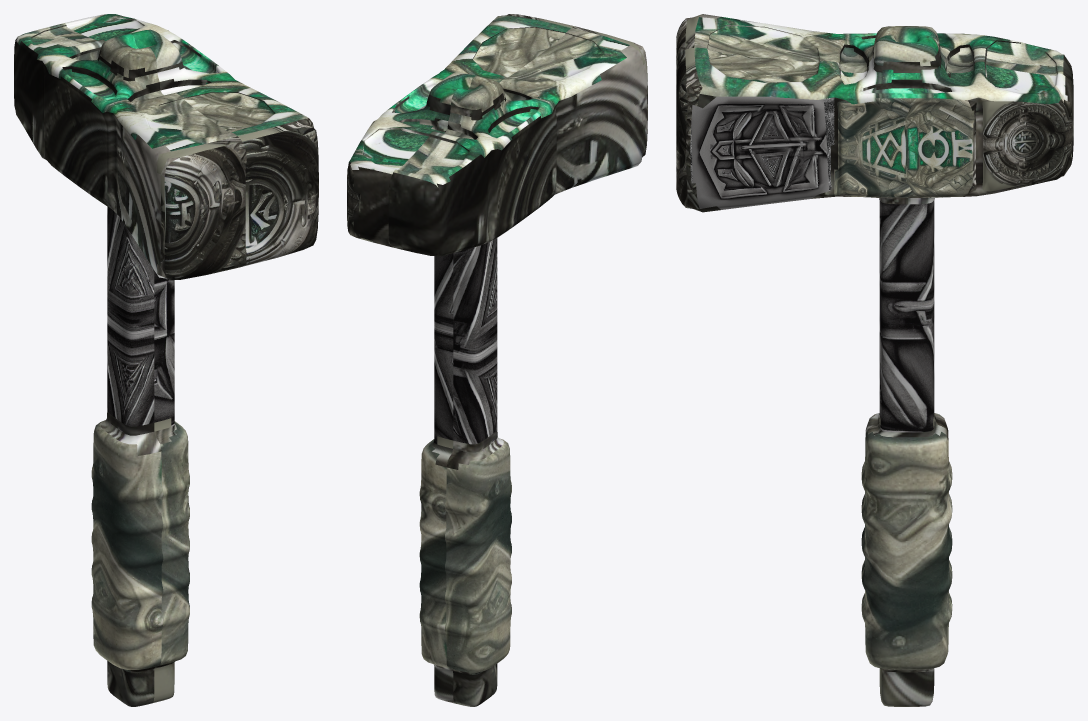
Rendered from Hammer.glb.
3 views of the same model, side by side, from view 1: azimuth 30°, elevation 25°; view 2: azimuth 150°, elevation 25°; view 3: azimuth 270°, elevation 25° (orthographic). The views are drawn at different scales.
Parts seen in each view (by area): view 1: Hammer; view 2: Hammer; view 3: Hammer.
Part boxes in pixels (<box>): Hammer: <box>14,14,318,706</box>; Hammer: <box>347,14,647,706</box>; Hammer: <box>676,14,1073,706</box>.
Size of the model in its own units: 0.1763 by 0.6997 by 0.3797.
1 material, 1 textured.
